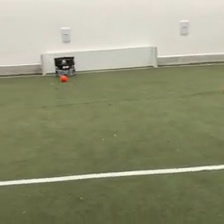ball: (59, 73, 68, 82)
goal: (38, 43, 159, 77)
robot: (52, 54, 78, 77)
